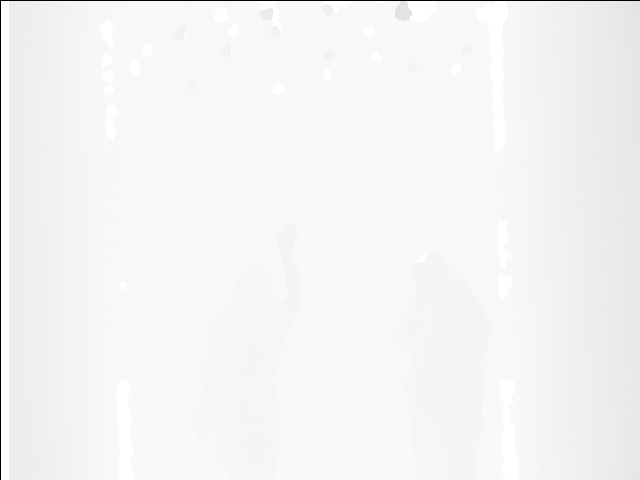hand: (277, 223, 303, 259)
